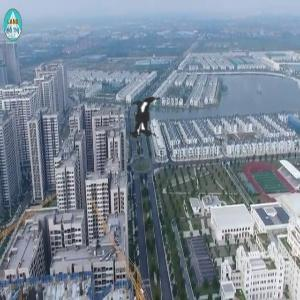drone: (78, 54, 210, 186)
